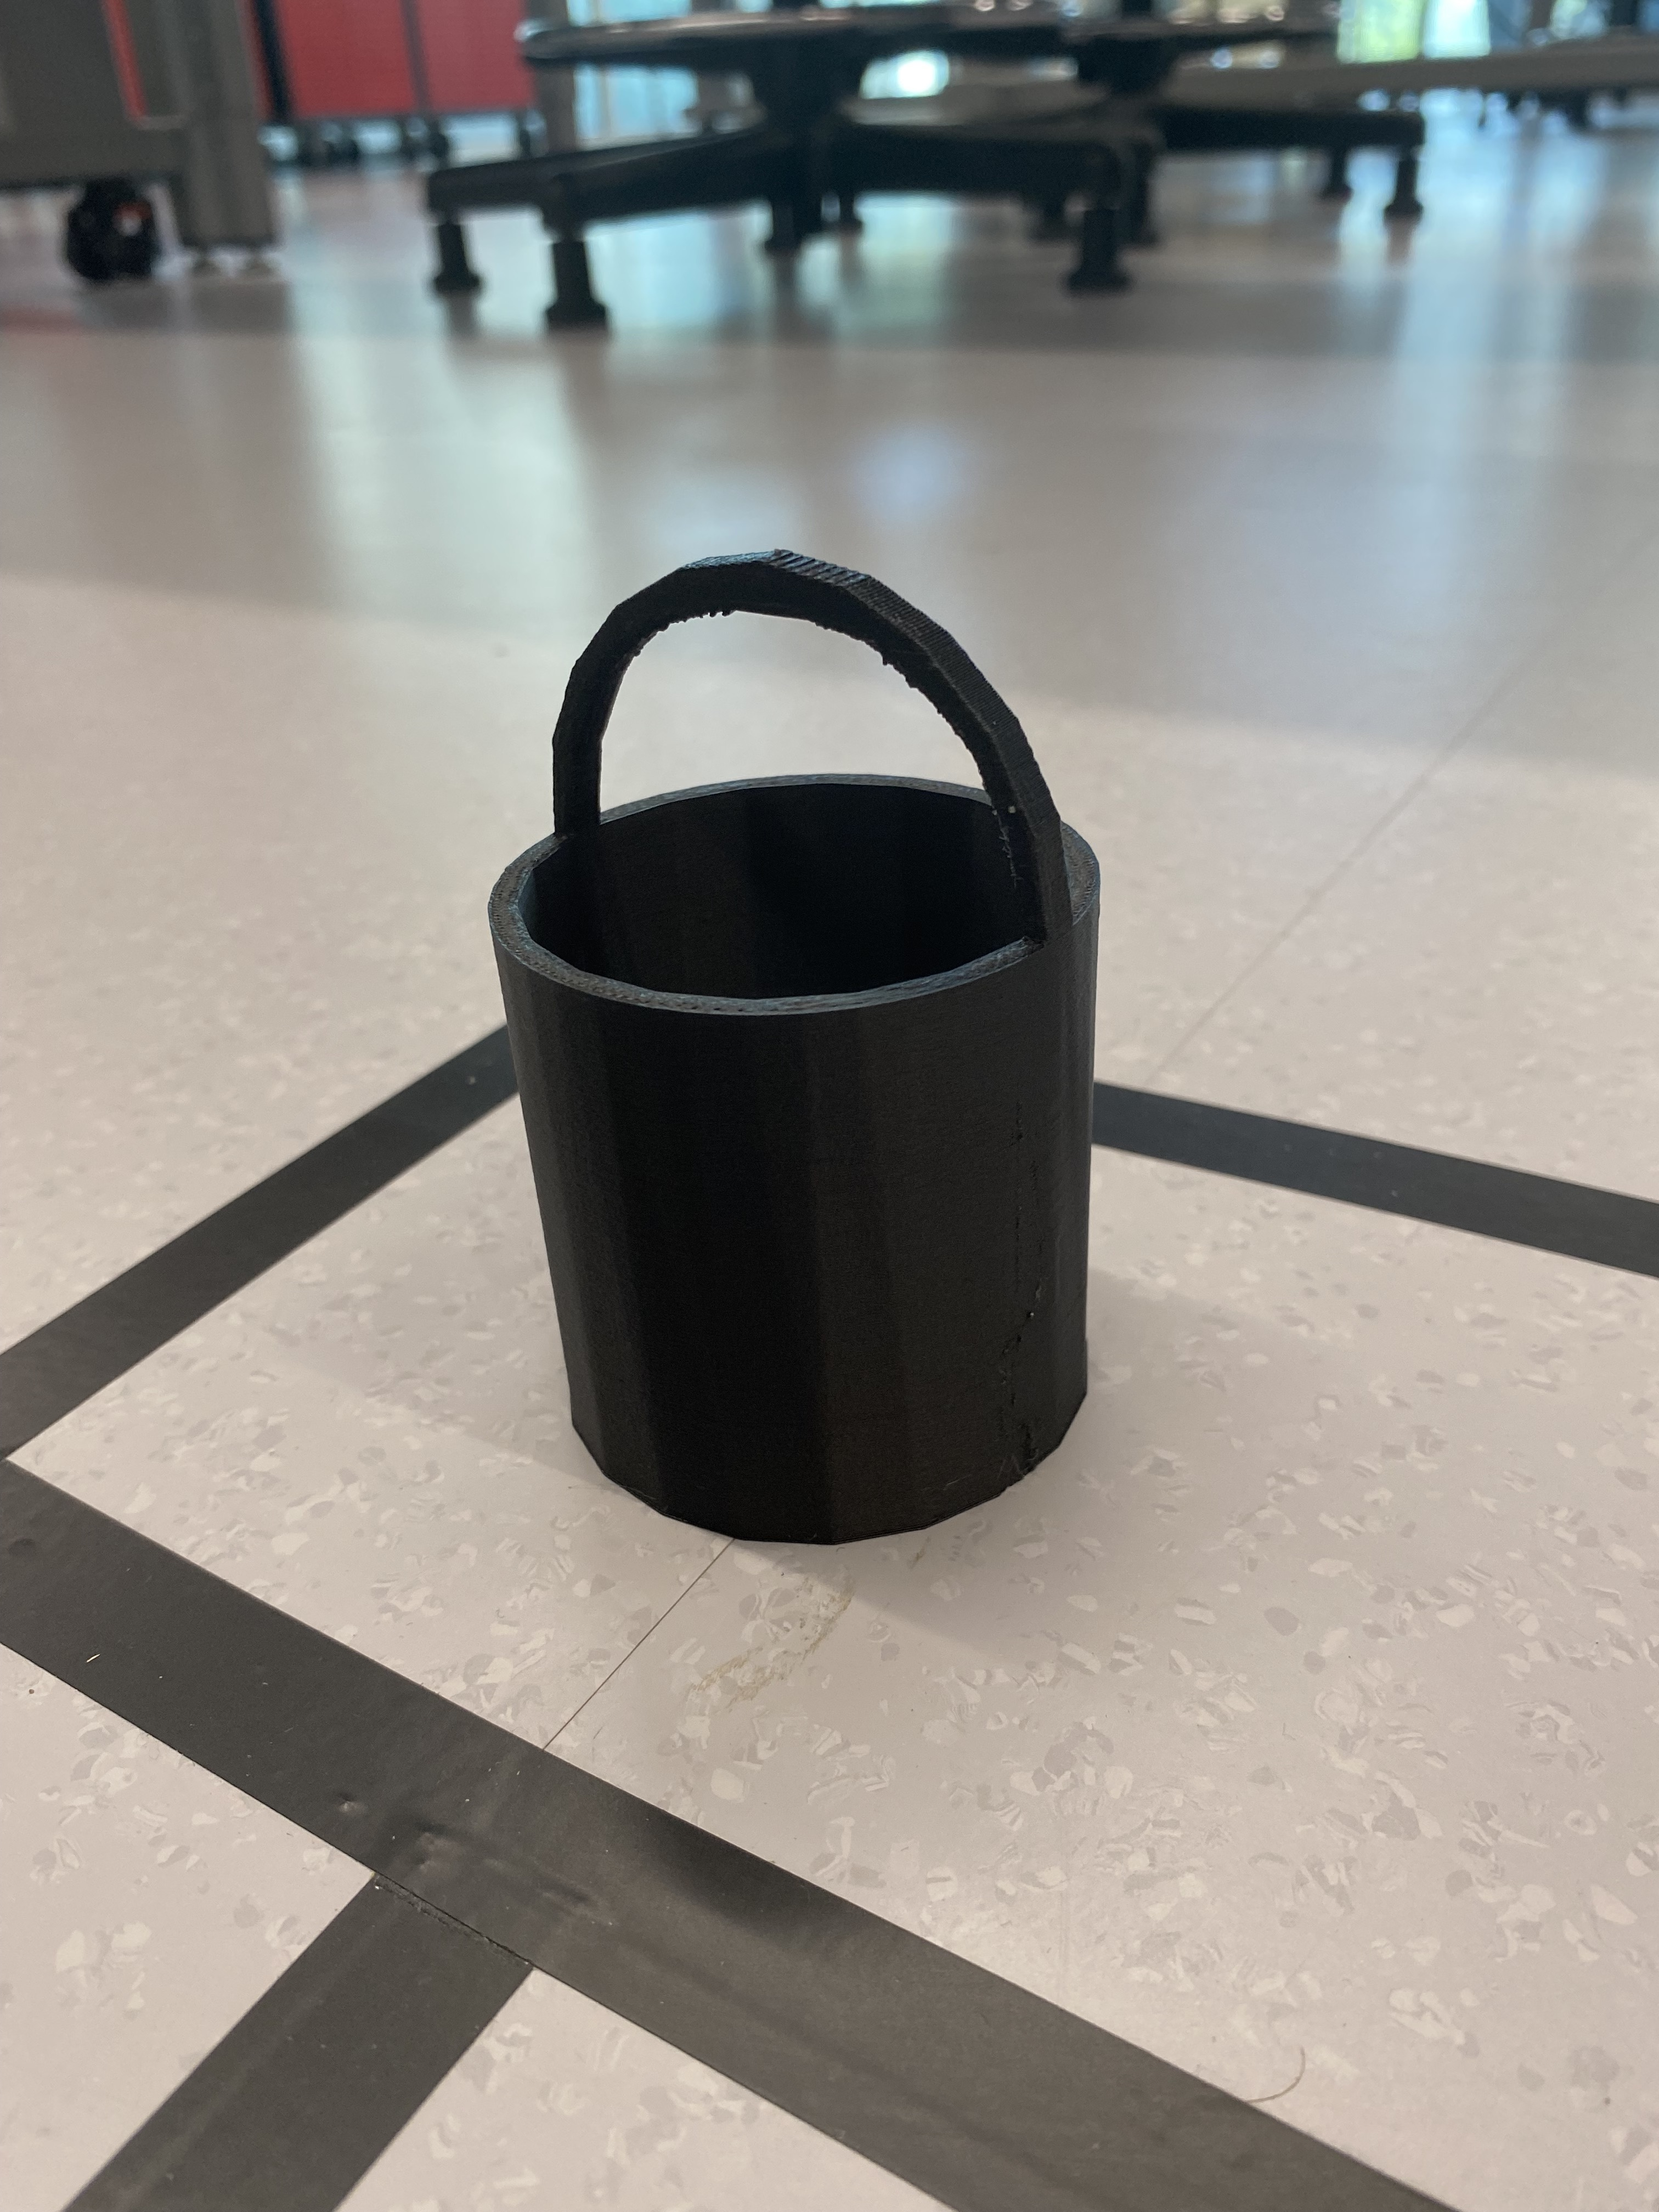bag: (472, 531, 1141, 1552)
